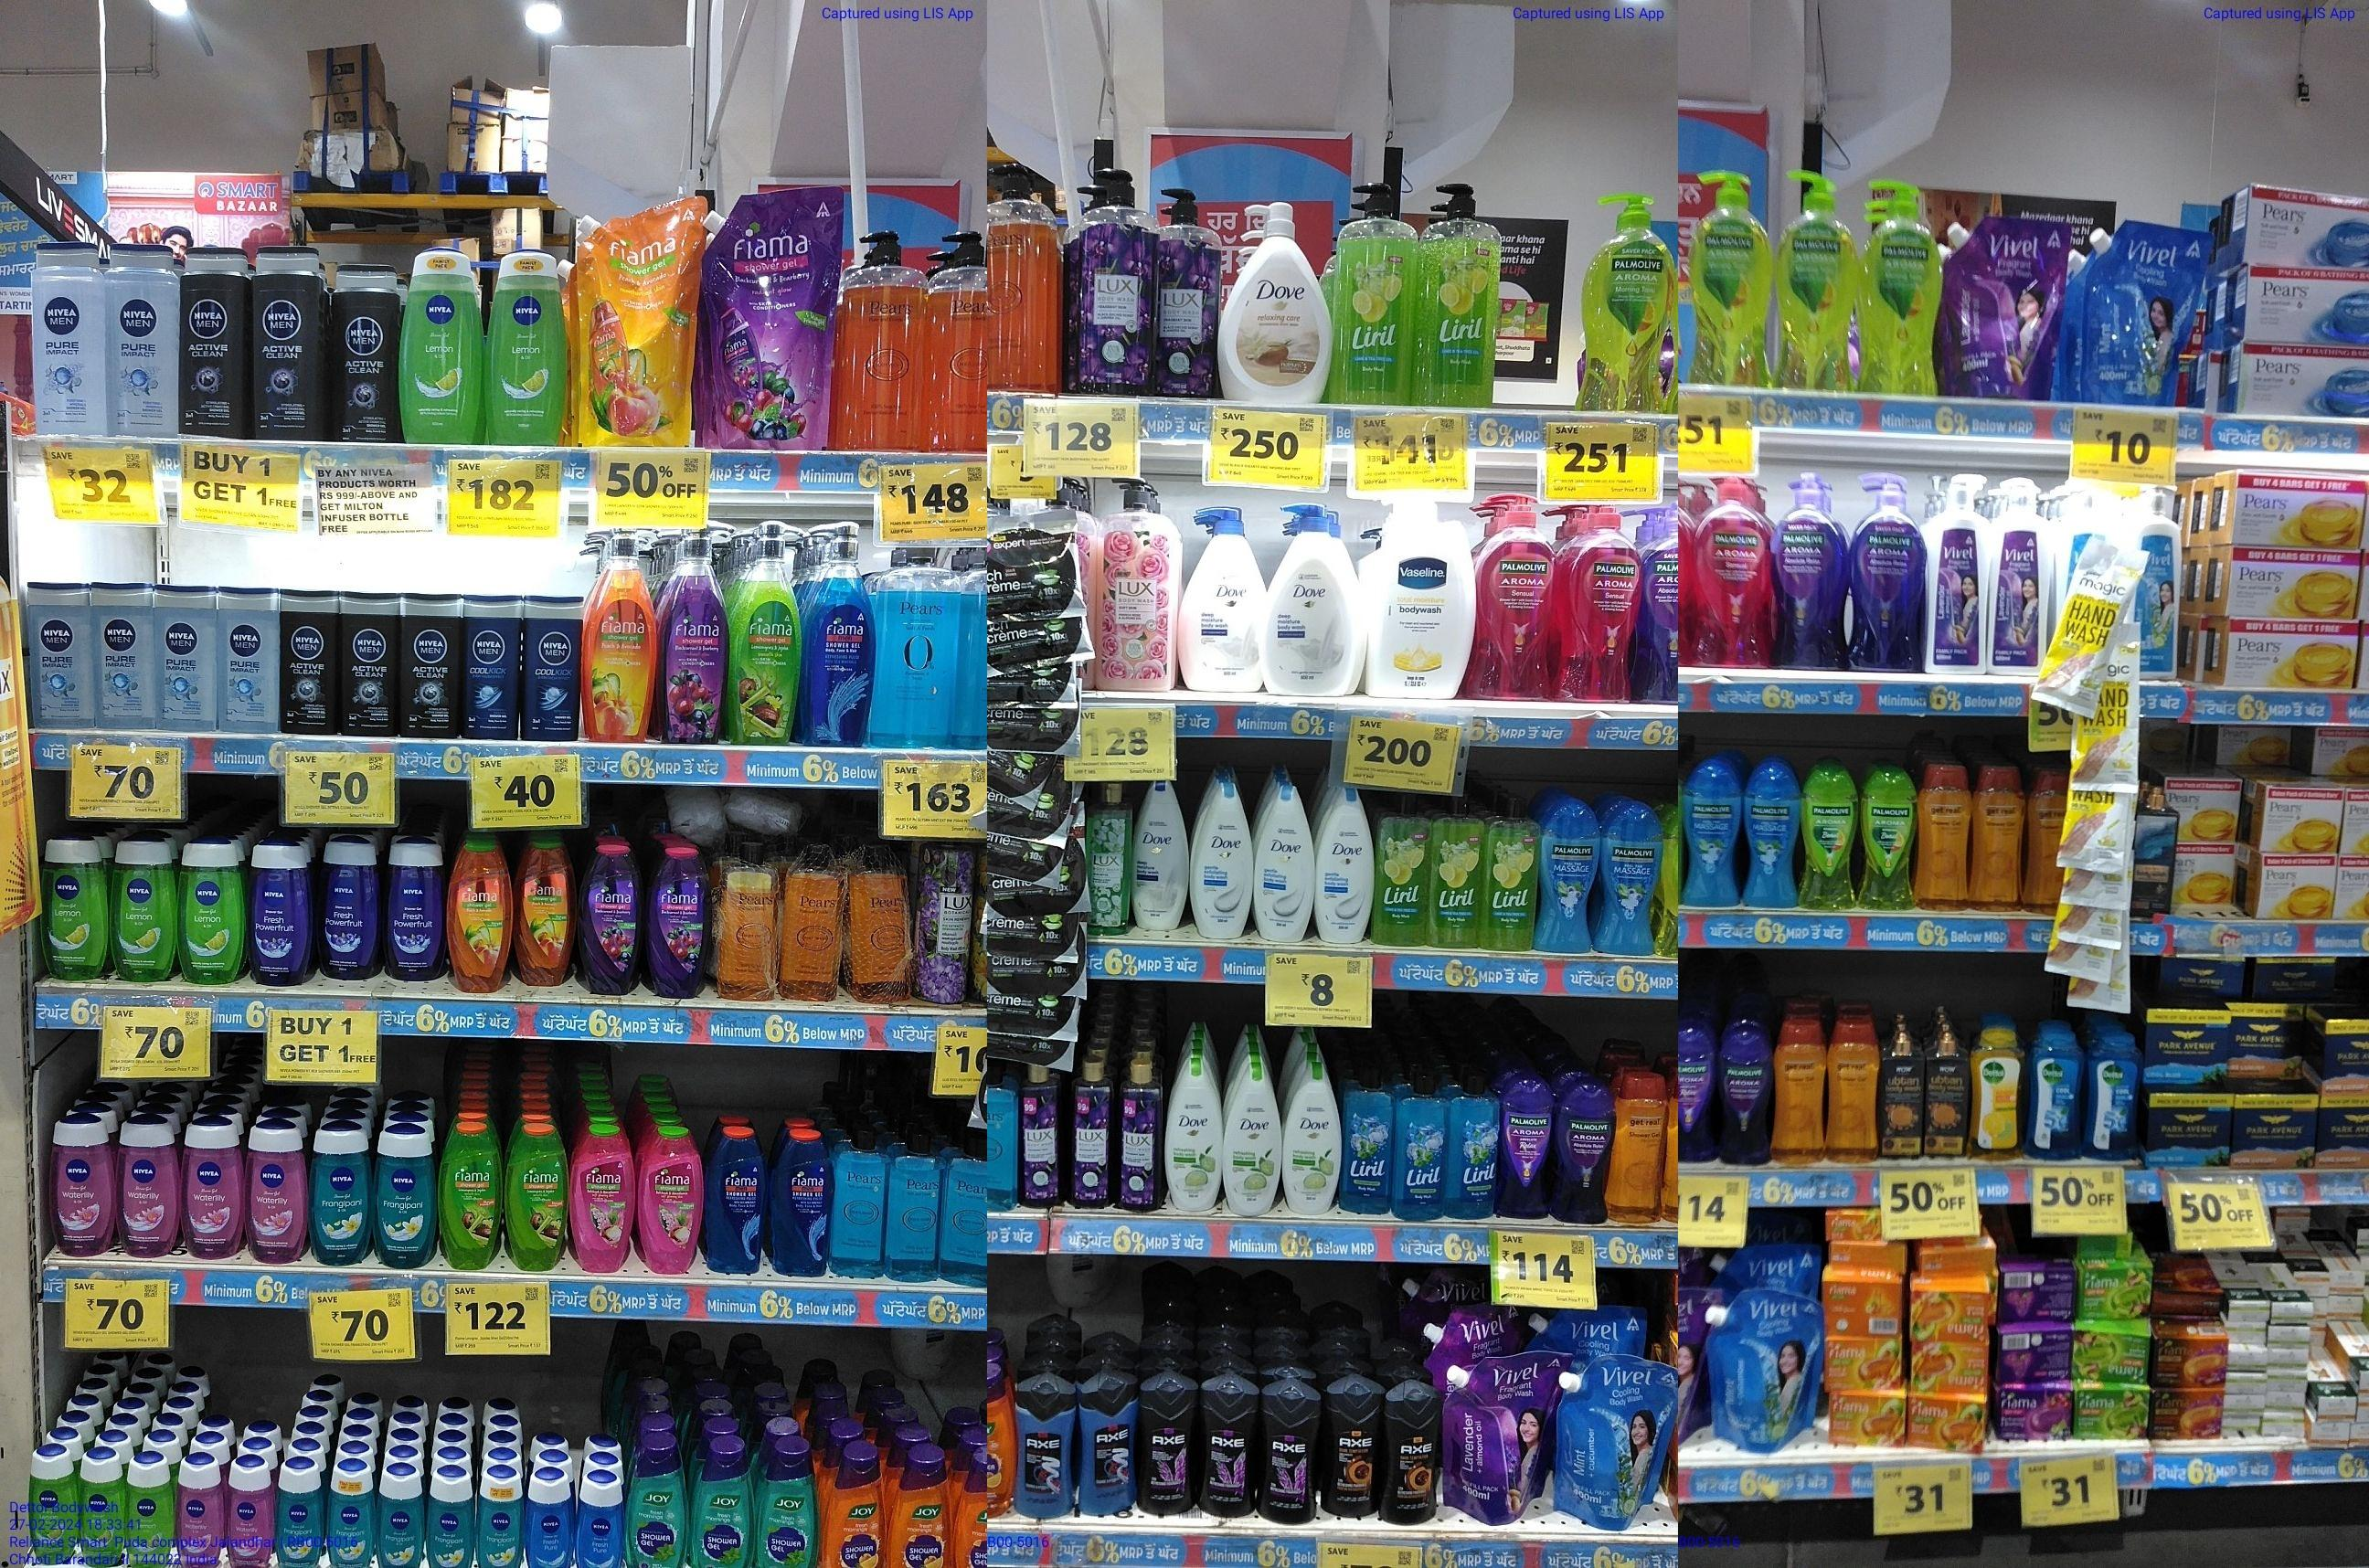Dettol_Bodywash_Cool: (2033, 1029, 2082, 1165), (2089, 1032, 2138, 1164)
Dettol_Bodywash_Refresh: (1970, 1032, 2023, 1162)
Dove_Deep_Moisture_Body_Wash_250ML: (1134, 779, 1186, 934)
Dove_Gentle_Exfoliating_Body_Wash_250ML: (1198, 784, 1253, 941), (1317, 786, 1370, 947), (1258, 787, 1309, 947)
Dove_Refreshing_Body_Wash_250ML: (1286, 1064, 1340, 1216), (1169, 1059, 1219, 1214), (1230, 1064, 1279, 1218)
Fiama_Shower_Gel_Lemongrass_and_Jojoba_250ML: (443, 1120, 504, 1269), (509, 1120, 567, 1276)
Fiama_Shower_Gel_Patchouli_and_Macadamia_250ML: (572, 1125, 635, 1276), (642, 1127, 700, 1274)
Fiama_Shower_Gel_Peach_and_Avocado_250ML: (450, 833, 509, 994), (520, 835, 576, 990)
Get_Real_Shower_Gel_Moisturising_Glycerin_300ML: (1974, 763, 2026, 913), (1921, 761, 1970, 919), (1772, 1020, 1825, 1164), (1828, 1015, 1877, 1167), (1618, 1073, 1666, 1228), (2028, 763, 2066, 912)
Joy_Shower_Gel_Mandarin_and_Lemongrass_250ML: (828, 1444, 887, 1568), (891, 1454, 948, 1568)
Joy_Shower_Gel_Mint_and_Eucalyptus_250ML: (633, 1424, 689, 1568), (758, 1444, 819, 1568), (696, 1440, 752, 1568)
Liril_Cooling_Mint_Body_Wash_250ML: (1342, 1067, 1393, 1214), (1450, 1071, 1498, 1221), (1398, 1073, 1445, 1221)
Liril_Lime_and_Tea_Tree_Oil_Body_Wash_250ML: (1431, 794, 1484, 949), (1379, 796, 1429, 952), (1489, 794, 1536, 950)
Lux_Black_Orchid_Scent_and_Juniper_Oil_Body_Wash_245ML: (1116, 1060, 1160, 1211), (1022, 1060, 1066, 1204), (1071, 1059, 1109, 1209)
Lux_Body_Wash_Skin_Detox_Freesia_Scent_and_Alove_Vera_245ML: (1085, 781, 1129, 934)
Nivea_Shower_Gel_Frangipani_and_Oil_250ML: (374, 1129, 437, 1269), (310, 1122, 371, 1265), (276, 1461, 322, 1568), (329, 1461, 374, 1568), (429, 1468, 474, 1568), (380, 1466, 423, 1568), (479, 1470, 521, 1568)
Nivea_Shower_Gel_Fresh_Powerfruit_250ML: (248, 833, 310, 987), (383, 835, 446, 983), (320, 833, 380, 982)
Nivea_Shower_Gel_Lemon_and_Oil_250ML: (406, 248, 485, 448), (492, 248, 567, 450), (114, 833, 177, 983), (40, 836, 103, 982), (182, 835, 240, 985), (26, 1452, 73, 1564), (79, 1452, 124, 1566), (128, 1461, 173, 1568)
Nivea_Shower_Gel_Waterlily_and_Oil_250ML: (247, 1122, 310, 1270), (47, 1115, 112, 1258), (182, 1116, 243, 1263), (119, 1118, 177, 1256), (178, 1459, 224, 1568), (229, 1461, 271, 1568)
Palmolive_Aroma_Moments_Feel_The_Massage_Shower_Gel_250ML: (1603, 798, 1655, 959), (1683, 761, 1741, 905), (1545, 800, 1597, 954), (1744, 763, 1797, 908)
Palmolive_Aroma_Morning_Tonic_Shower_Gel_250ML: (1804, 766, 1858, 910), (1865, 766, 1916, 915)
Palmolive_Aroma_Relax_250ML: (1557, 1083, 1610, 1230), (1716, 1020, 1767, 1167), (1501, 1076, 1550, 1221), (1680, 1024, 1715, 1162)
Pears_Pure_Glycerin_and_Mint_Extracts_Body_Wash_250ML: (831, 1129, 882, 1281), (889, 1130, 938, 1284), (943, 1132, 985, 1288)
